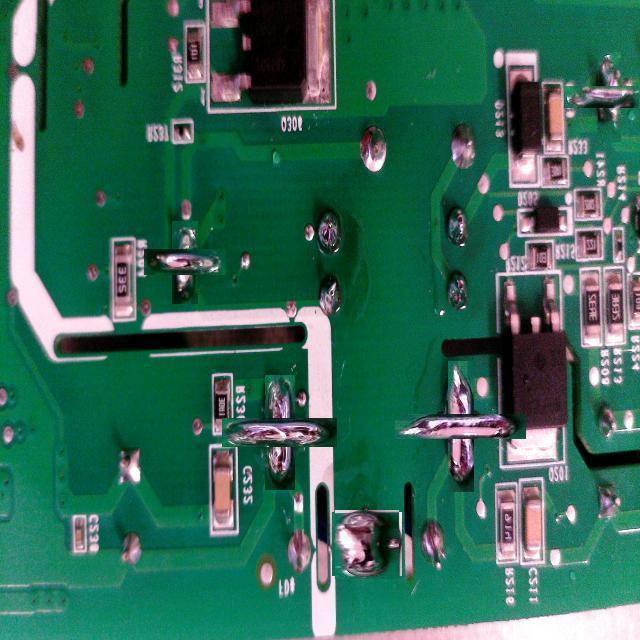Short_circuit: (422, 387, 500, 466), (244, 396, 316, 469), (334, 511, 400, 578), (581, 69, 638, 125), (158, 235, 212, 290)
